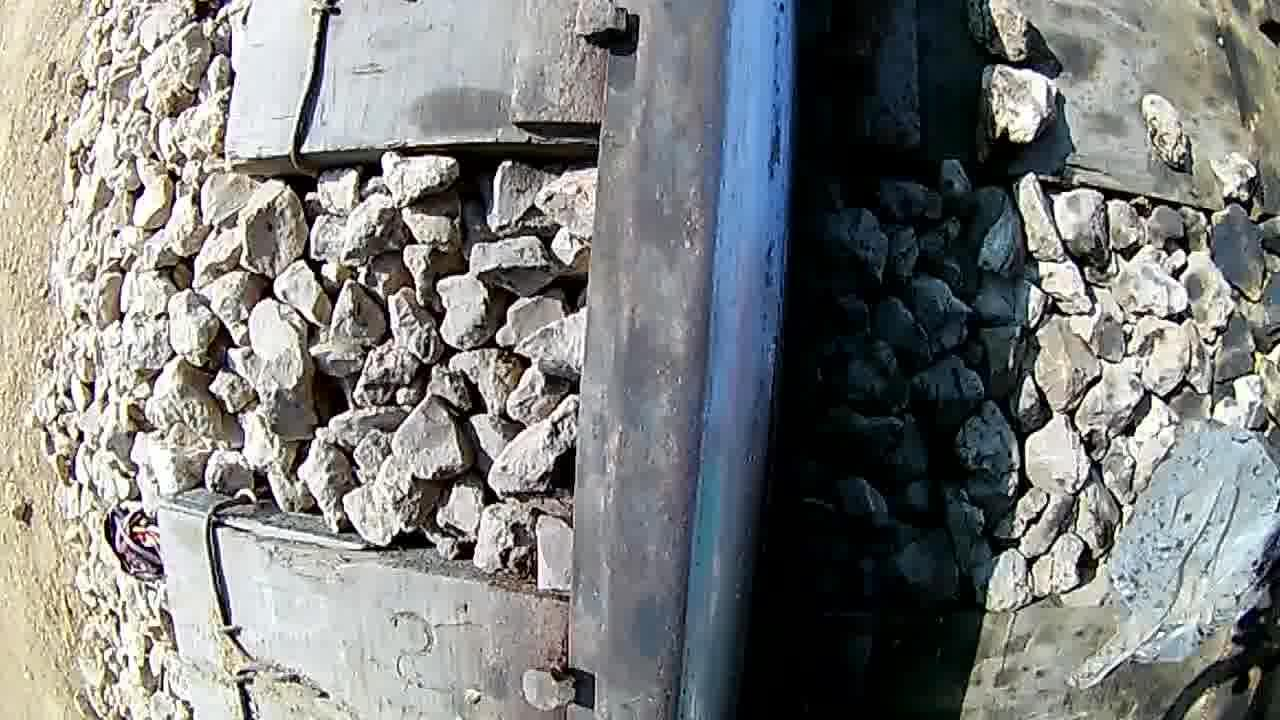crack: (624, 0, 794, 715)
